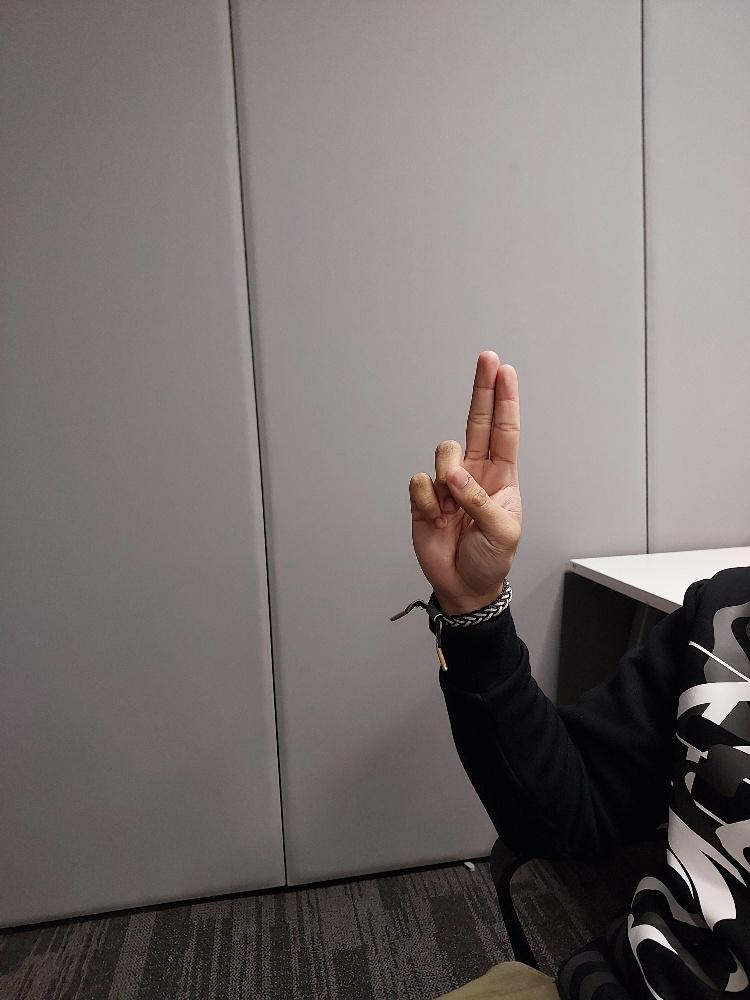u: (407, 347, 522, 596)
